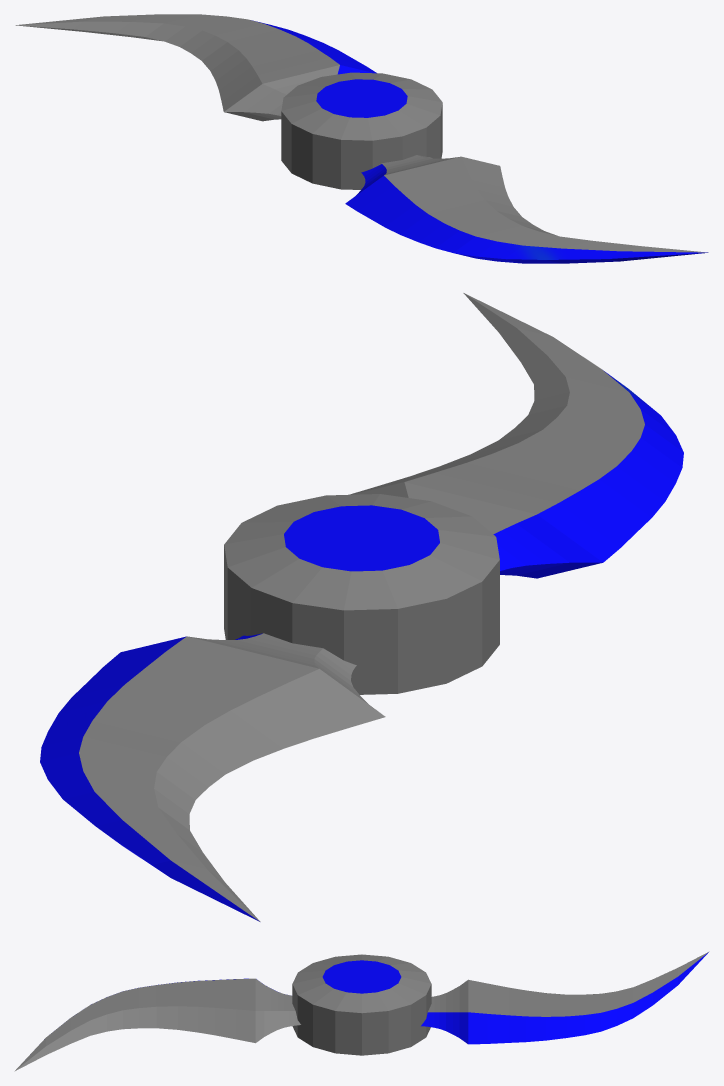
The model's file is Beyblade_Basic_Blade_Water.fbx.
3 renders of one model, top to bottom at view 1: azimuth 30°, elevation 25°; view 2: azimuth 150°, elevation 25°; view 3: azimuth 270°, elevation 25°, orthographic. The views are drawn at different scales.
Parts seen in each view (by area): view 1: Circle.001; view 2: Circle.001; view 3: Circle.001.
Boxes of the visible parts, bbox=[...] form: Circle.001: bbox=[15, 14, 708, 263]; Circle.001: bbox=[40, 293, 683, 921]; Circle.001: bbox=[14, 951, 709, 1071].
Size of the model in its own units: 162 by 35.77 by 394.
1 material, 1 textured.
